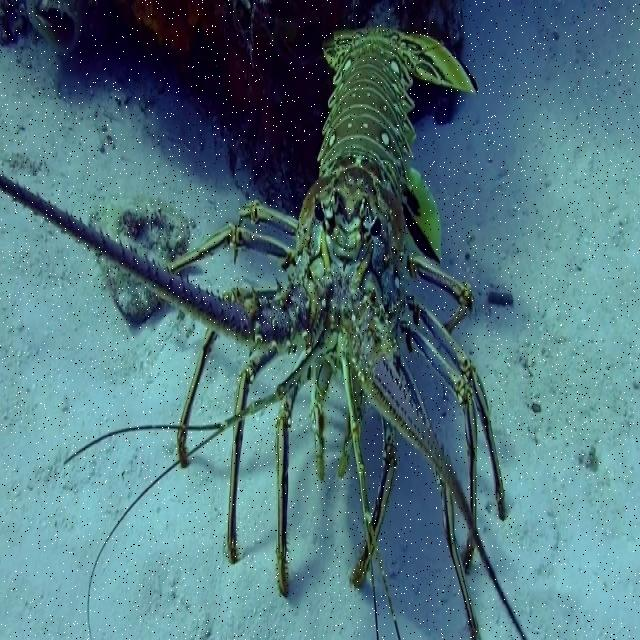reefs: (0, 25, 532, 639)
